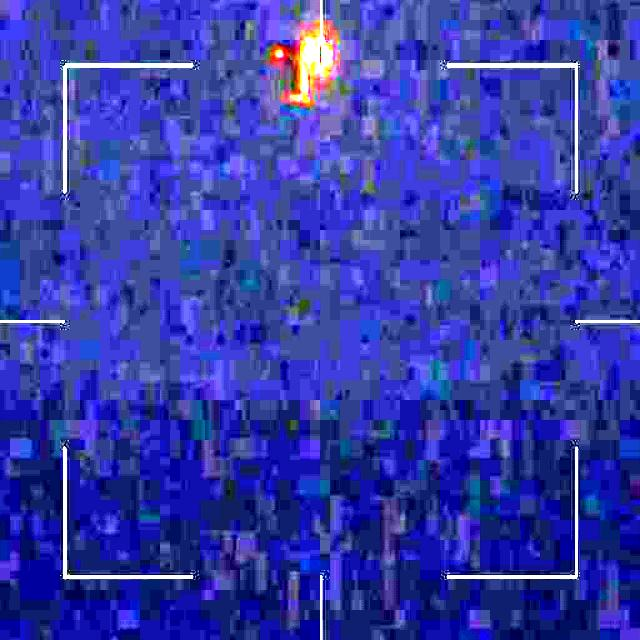bird: (261, 34, 335, 104)
